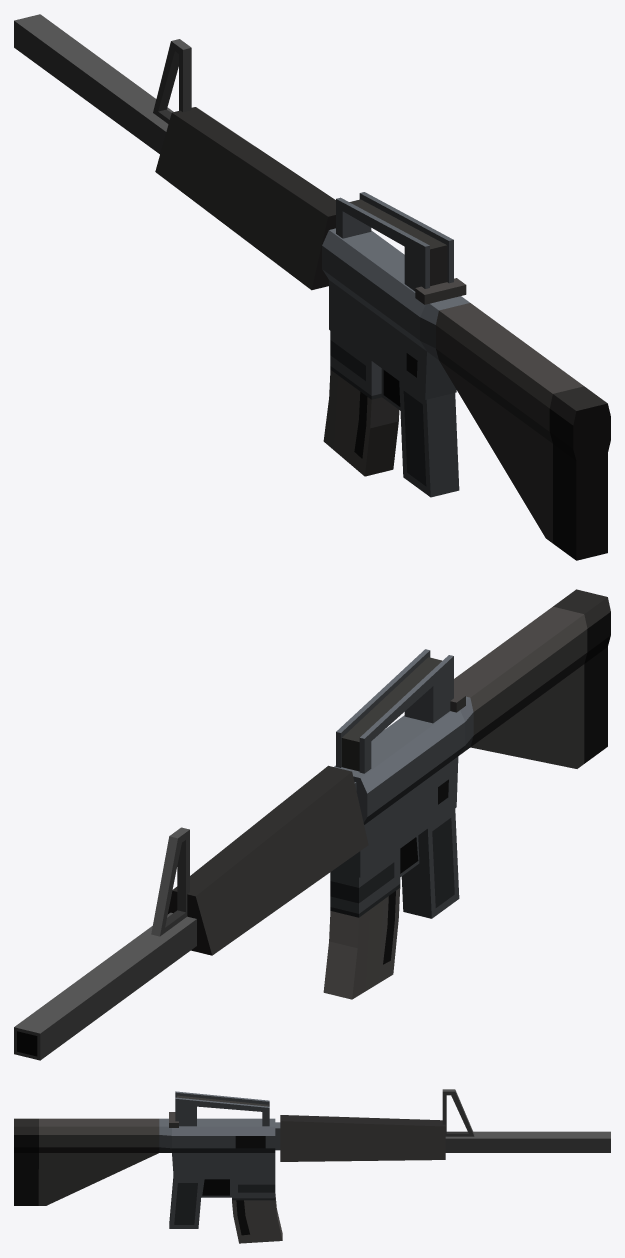
File: Wep_M16.fbx
3 views of the same model, one above another, from view 1: azimuth 30°, elevation 25°; view 2: azimuth 150°, elevation 25°; view 3: azimuth 270°, elevation 25° (orthographic). The views are drawn at different scales.
Visible parts, largest first — view 1: Wep_M16; view 2: Wep_M16; view 3: Wep_M16.
Boxes of the visible parts, x1,y1,x2,y2 form: Wep_M16: (14,14,610,560); Wep_M16: (14,589,610,1060); Wep_M16: (14,1089,610,1243).
Size of the model in its own units: 23.95 by 114 by 411.
